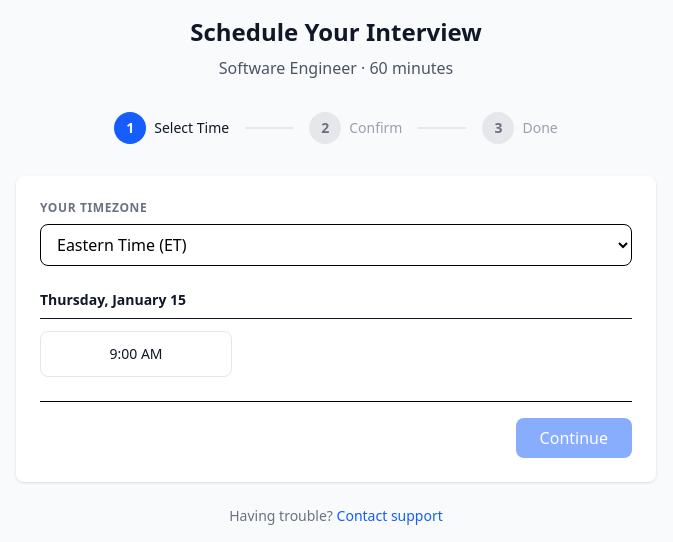
Test case: CandidateBookingPage › allows selecting a slot and going to confirm step
# Select slot
Click the option "9:00 AM" at (136, 354), box [40,331,232,377]
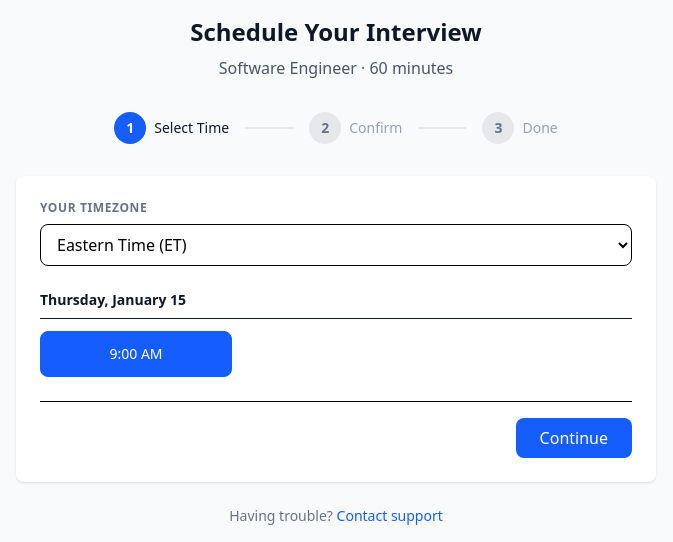
Expected: the option "9:00 AM" has class "bg-blue-600", [40,331,232,377]
# Click continue to go to confirm step
Click the button "Continue" at (574, 438), box [516,418,632,458]
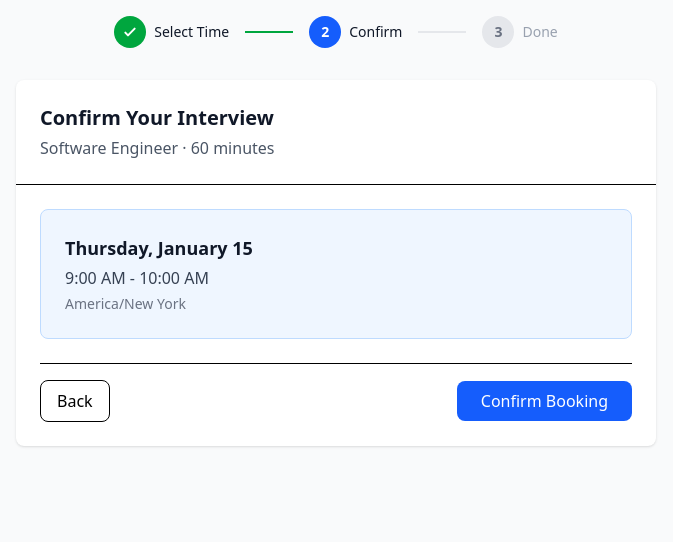
Expected: the heading "Confirm Your Interview" is shown, [40,104,274,131]
Expected: the button "Confirm Booking" is shown, [457,381,632,421]
